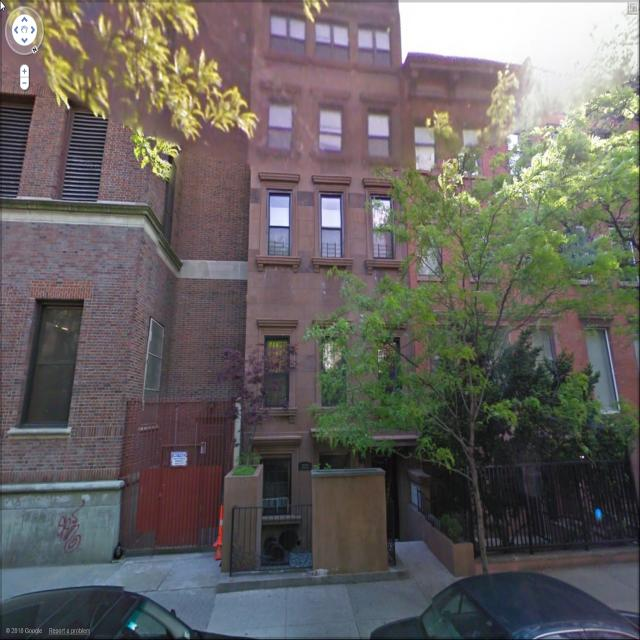b_1: (246, 5, 404, 438)
b_2: (1, 9, 248, 524), (394, 44, 536, 497), (522, 76, 640, 459)
